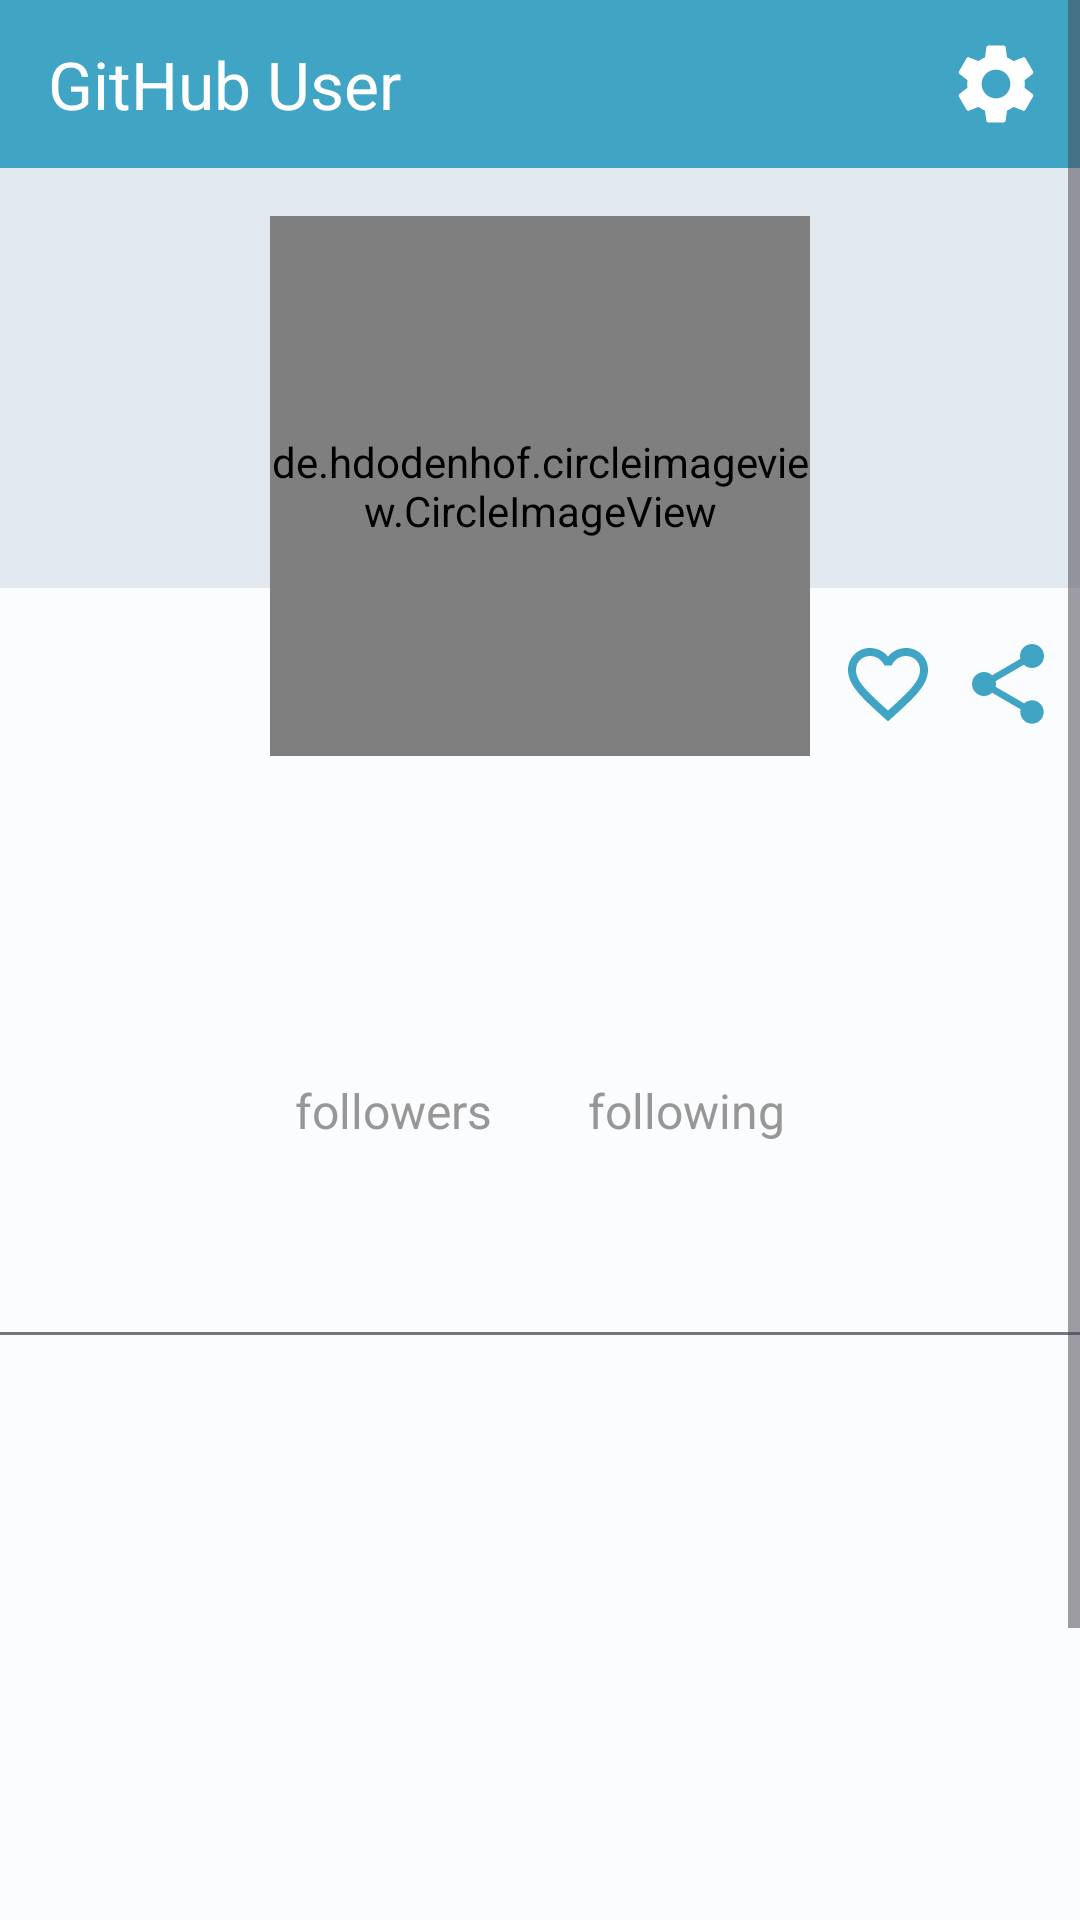

Named icons in this screenshot (1080x1920) and their centers, (x=x, y=y):
Favorites: (x=888, y=684)
Share: (x=1008, y=684)
